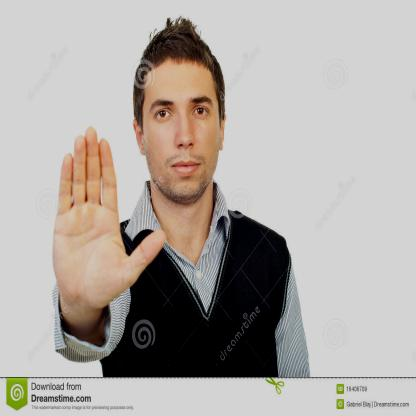Stop: (55, 127, 160, 302)
